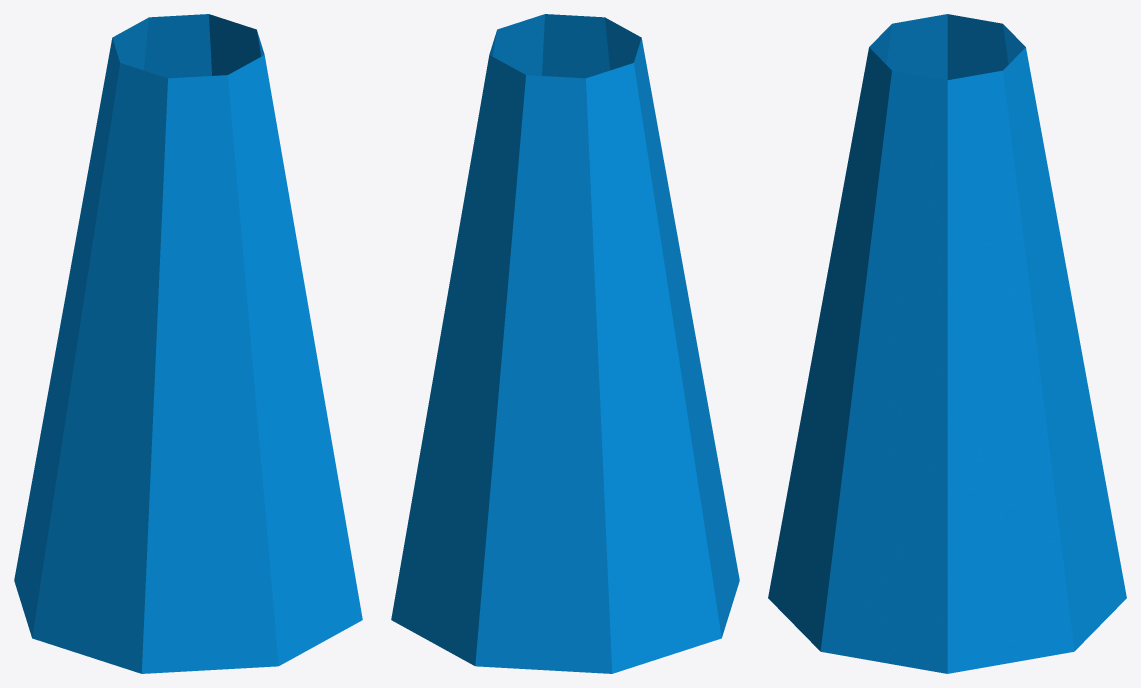
Rendered from light.fbx.
The picture shows the model from 3 angles, left to right: view 1: azimuth 30°, elevation 25°; view 2: azimuth 150°, elevation 25°; view 3: azimuth 270°, elevation 25°; orthographic projection.
Parts seen in each view (by area): view 1: Circle; view 2: Circle; view 3: Circle.
Part boxes in pixels (x1=…): Circle: x1=14, y1=14, x2=362, y2=673; Circle: x1=391, y1=14, x2=739, y2=673; Circle: x1=768, y1=14, x2=1126, y2=673.
Bounding box in the file's own units: 2.15 × 3.64 × 2.15.
